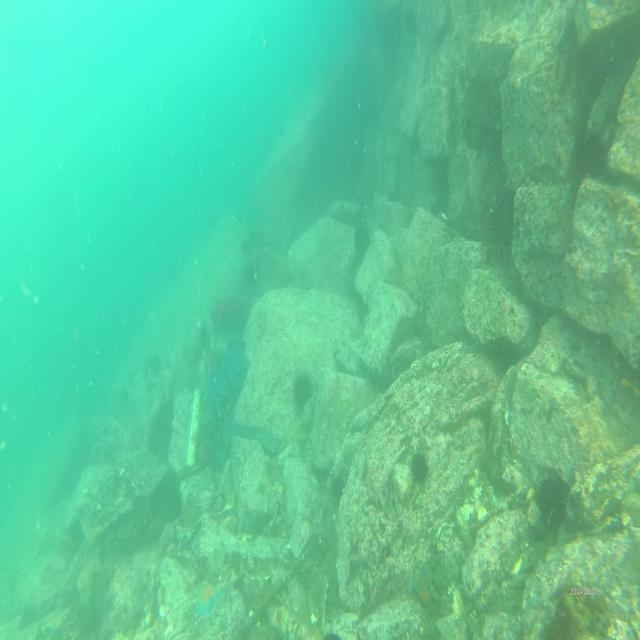echinus: (534, 470, 562, 522), (292, 370, 314, 405), (408, 449, 429, 484)
starfish: (411, 562, 434, 610), (195, 580, 221, 618)
